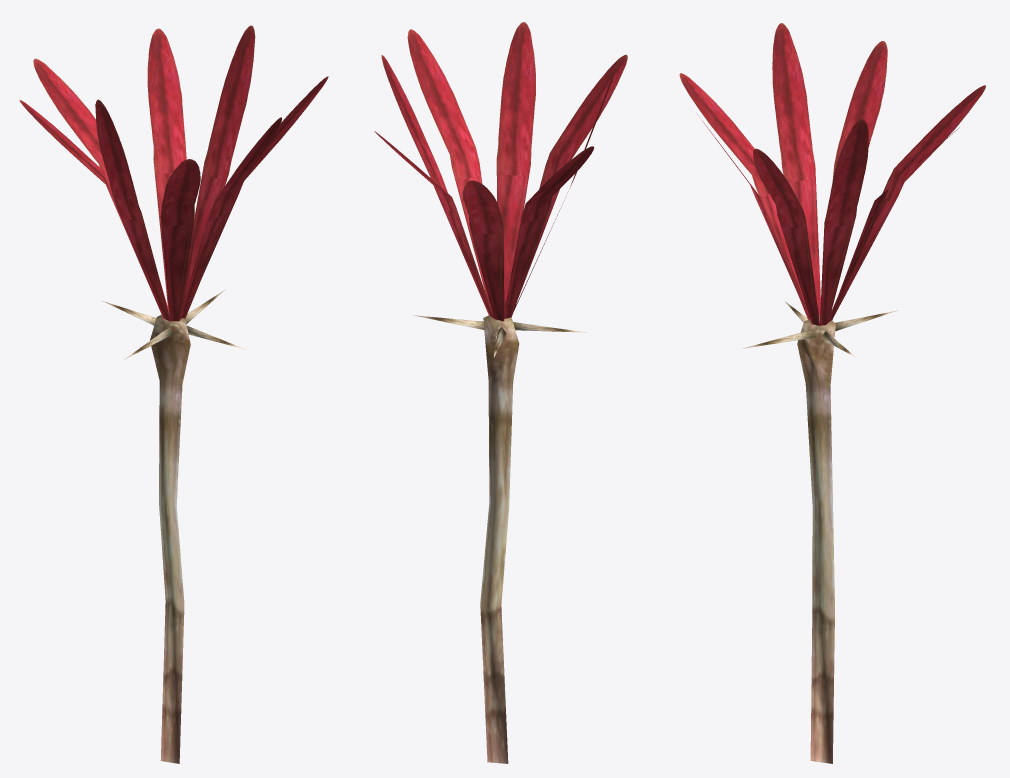
File: flow_tatt_funnel_lrg_l1.fbx
The picture shows the model from 3 angles, left to right: view 1: azimuth 30°, elevation 25°; view 2: azimuth 150°, elevation 25°; view 3: azimuth 270°, elevation 25°; orthographic projection.
Parts seen in each view (by area): view 1: mesh_node; view 2: mesh_node; view 3: mesh_node.
Part boxes in pixels (box(x1,y1,x2,y2)): mesh_node: box(19, 25, 328, 763); mesh_node: box(374, 22, 627, 763); mesh_node: box(679, 23, 985, 763).
Bounding box in the file's own units: 0.5658 × 1.43 × 0.6093.
